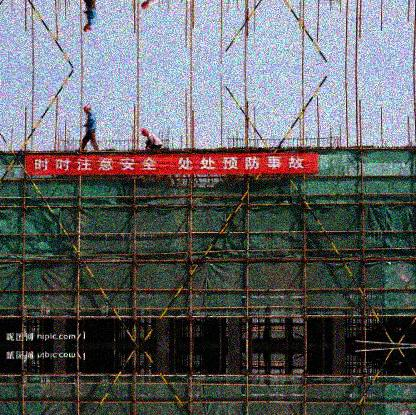helmet: (83, 104, 91, 113), (83, 24, 91, 33), (142, 128, 149, 137)
